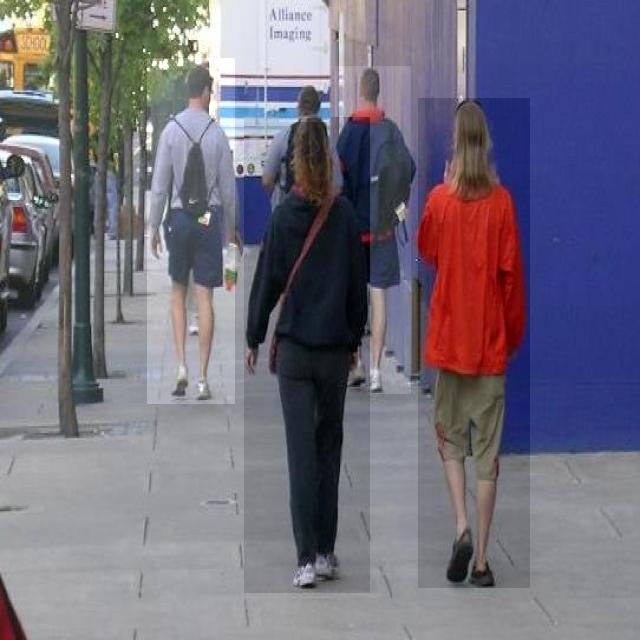with scooter: (244, 117, 370, 594), (418, 98, 530, 588), (147, 58, 235, 404), (335, 66, 411, 394), (279, 81, 329, 122)
